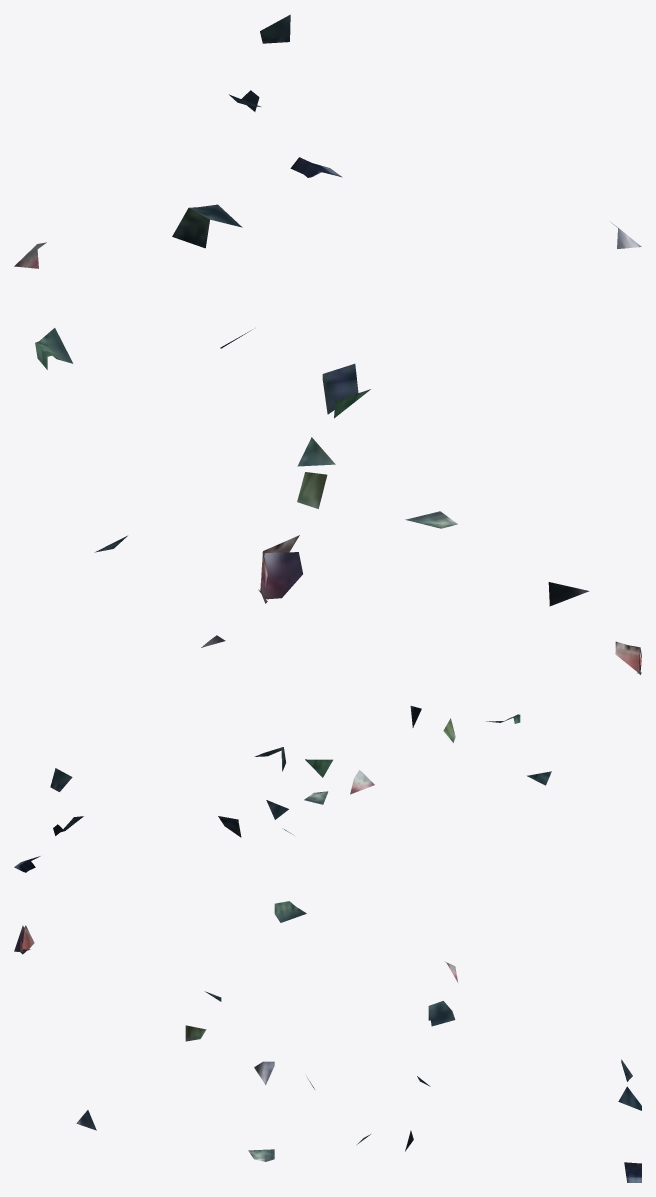
3 views of the same model, one above another, from view 1: azimuth 30°, elevation 25°; view 2: azimuth 150°, elevation 25°; view 3: azimuth 270°, elevation 25° (orthographic). The views are drawn at different scales.
Parts seen in each view (by area): view 1: 30436272704361505430_1; view 2: 30436272704361505430_1; view 3: 30436272704361505430_1.
Part boxes in pixels (bbox=[...]): 30436272704361505430_1: bbox=[14, 14, 641, 606]; 30436272704361505430_1: bbox=[14, 635, 641, 872]; 30436272704361505430_1: bbox=[14, 901, 641, 1182].
Size of the model in its own units: 20.87 by 8.63 by 32.7.
Materials: 1 (1 with a texture image).
